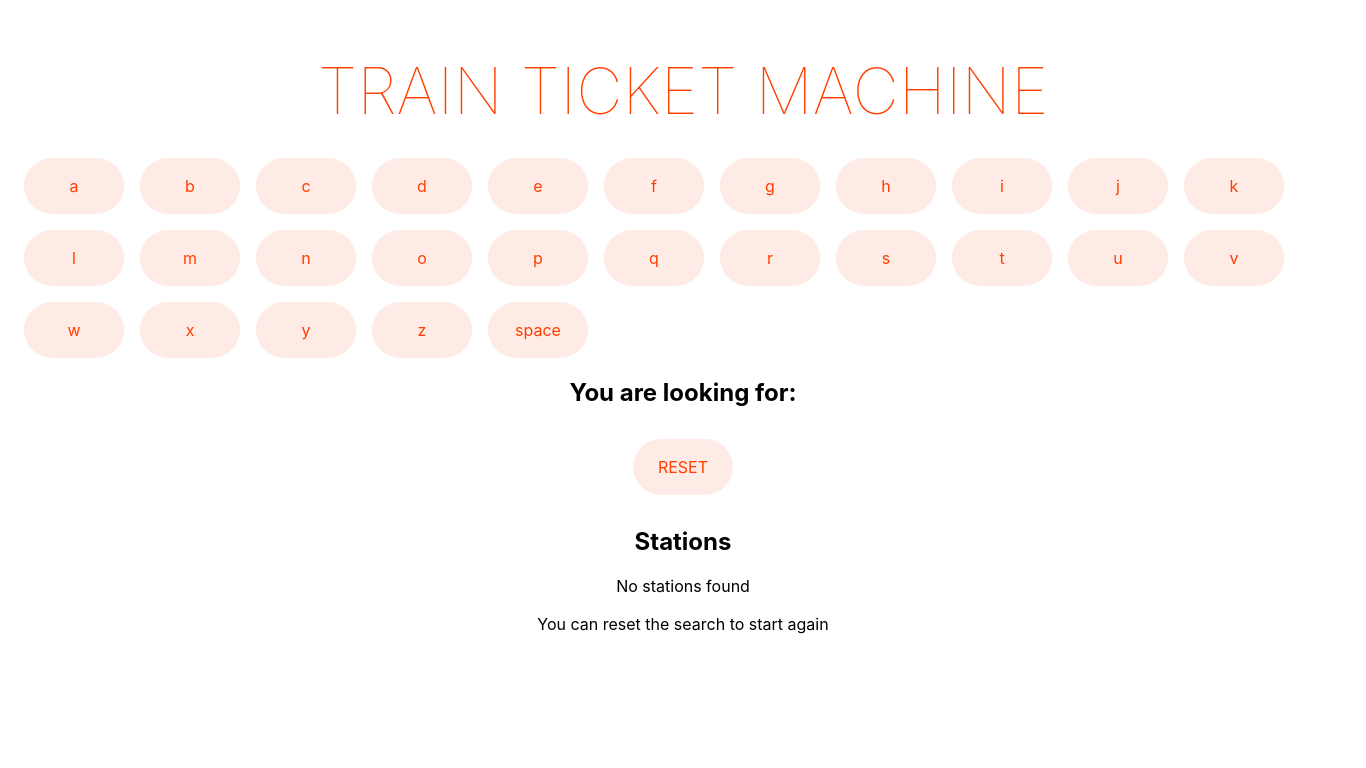
it: HomePage › should display the 5 stations when the button 'd' was clicked
Click the button with test id "letter-button" showing "d" at point(422, 186), box [372,158,472,214]
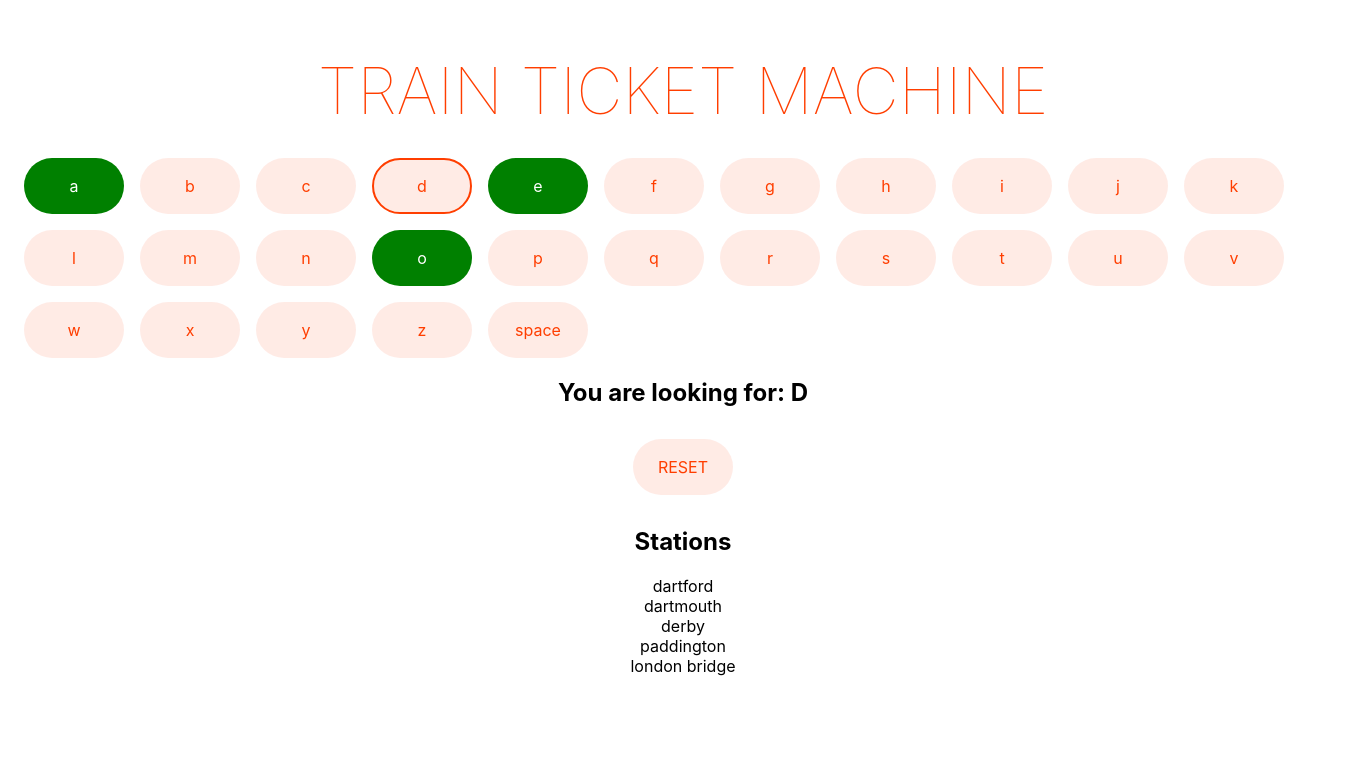
Now the number of list items with test id "station" is 5, box [653,576,713,596]; [644,596,722,616]; [661,616,705,636]; [640,636,726,656]; [630,656,736,676]
